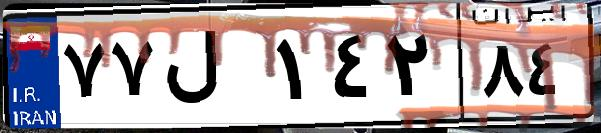1: (270, 28, 330, 110)
2: (385, 28, 445, 110)
4: (330, 28, 385, 110), (525, 38, 570, 115)
7: (57, 26, 110, 100), (110, 28, 158, 98)
8: (475, 38, 525, 113)
ل: (158, 20, 270, 120)
